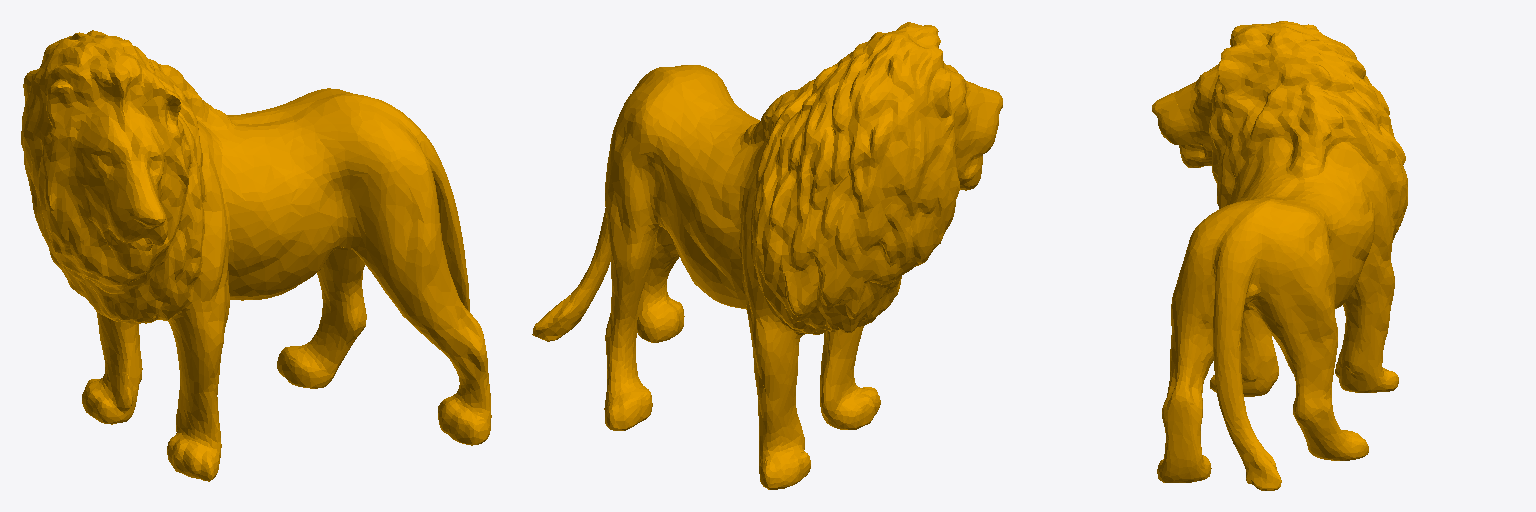
URDF robot description (tr3e4tbm):
<?xml version='1.0'?>

<robot name="tr3e4tbm">
    <static>false</static>
    <link name="link">
        <inertial>
            <mass value="0.057998574225967645"/>
            <inertia ixx="3.716217383976904e-05" ixy="6.633365639995991e-06" ixz="1.323492755602183e-05"
                     iyy="6.567851738052378e-05" iyz="-5.239423879360465e-07" izz="5.343735276838506e-05"/>
        </inertial>
        <collision name="collision">
            <geometry>
                <mesh filename="package://miscnet/train/tr3e4tbm/collision_model_vhacd.obj"/>
            </geometry>
        </collision>
        <visual name="visual">
            <geometry>
                <mesh filename="package://miscnet/train/tr3e4tbm/visual_model.obj"/>
            </geometry>
        </visual>
    </link>
</robot>

--- Render facts (derived) ---
3 views of the same robot in one strip: view 1: azimuth 30°, elevation 25°; view 2: azimuth 150°, elevation 25°; view 3: azimuth 270°, elevation 25° (orthographic).
Robot: tr3e4tbm — 1 links, 0 joints (none); root link link; default pose: every joint at zero.
Visible links, largest first — view 1: link; view 2: link; view 3: link.
Link boxes in pixels (x1=…): link: x1=21, y1=30, x2=491, y2=481; link: x1=532, y1=22, x2=1002, y2=489; link: x1=1152, y1=21, x2=1407, y2=490.
Bounding box of the posed robot: 0.1196 × 0.0767 × 0.1127 m (x, y, z).
1 mesh visuals loaded from 1 distinct referenced files (1 OBJ).
